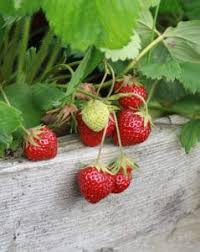ripe: (108, 105, 154, 150), (76, 160, 119, 208), (19, 123, 61, 161), (113, 76, 148, 114), (103, 153, 136, 193), (73, 116, 104, 145)
unripe: (78, 97, 111, 133)
